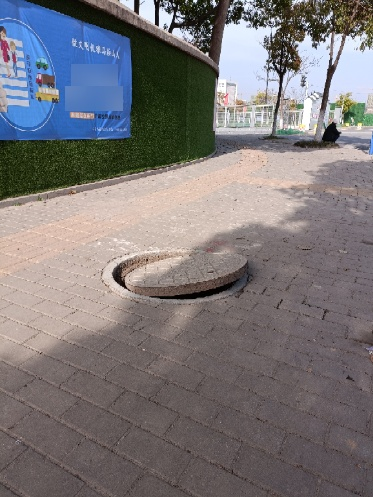uncovered: (101, 251, 250, 304)
